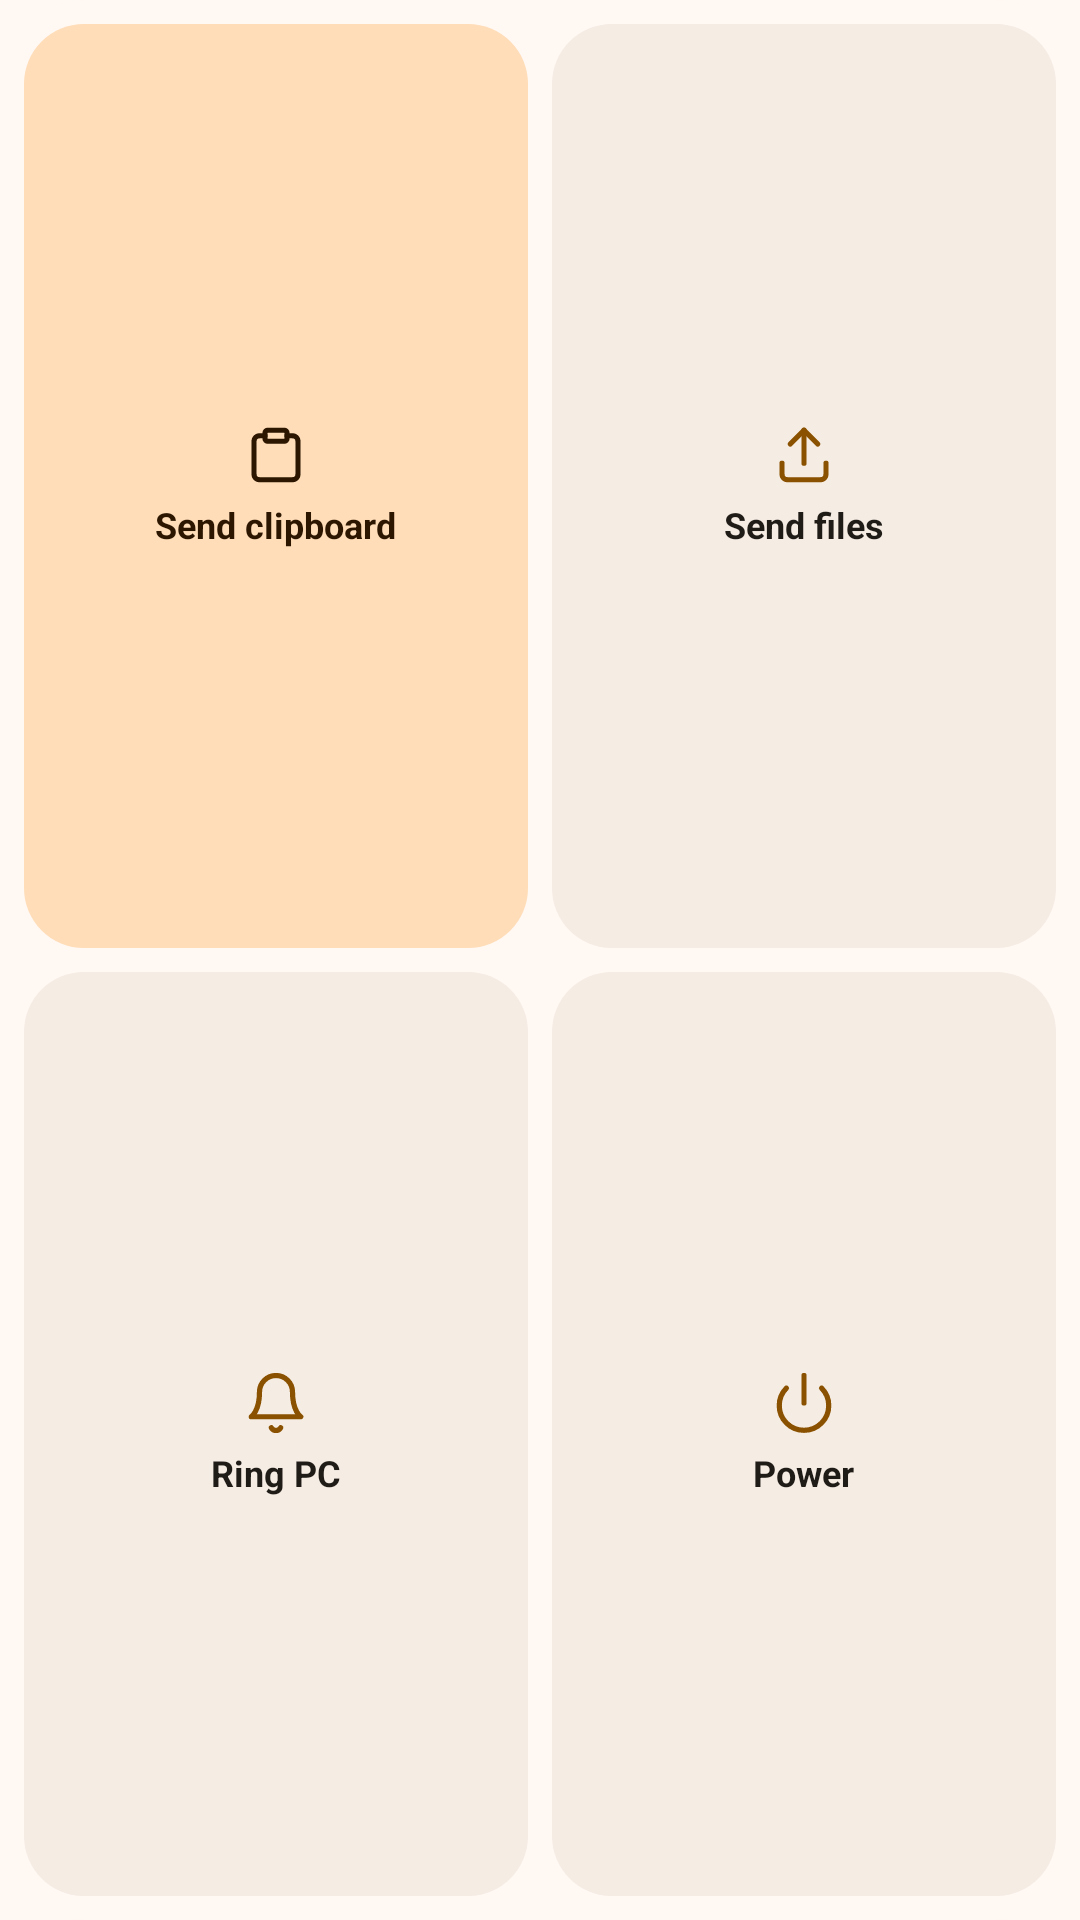

Named icons in this screenshot (1080*1920) and their bounding boxes, [x1=x1, y1=y1, x2=x2, y2=y2]:
widget bell: [x1=248, y1=1373, x2=304, y2=1433]
